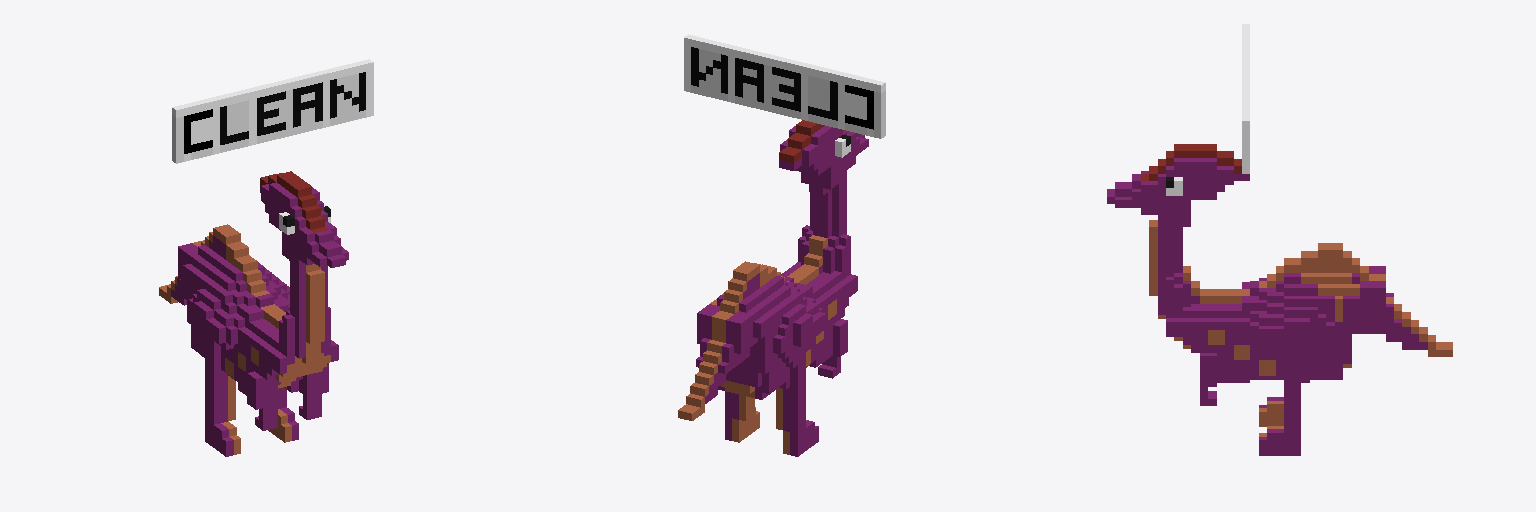
The picture shows the model from 3 angles: view 1: azimuth 30°, elevation 25°; view 2: azimuth 150°, elevation 25°; view 3: azimuth 270°, elevation 25°; orthographic projection.
Parts seen in each view (by area): view 1: Matrix_23; view 2: Matrix_23; view 3: Matrix_23.
Boxes of the visible parts, x1=… form: Matrix_23: x1=159, y1=59, x2=373, y2=456; Matrix_23: x1=678, y1=34, x2=885, y2=456; Matrix_23: x1=1107, y1=24, x2=1452, y2=455.
Size of the model in its own units: 27 by 48 by 41.
1 materials, 1 textured.